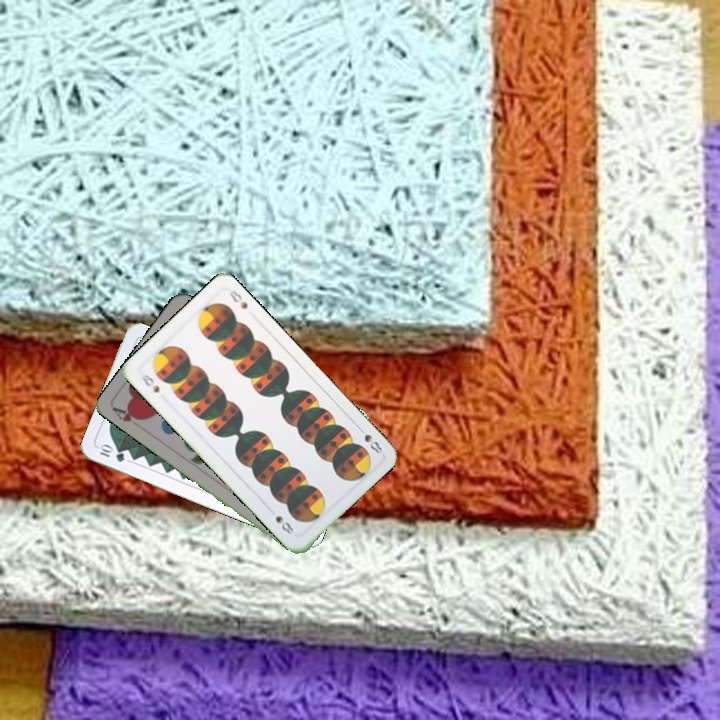G10: (94, 440, 128, 465)
HA: (109, 403, 145, 432)
S8: (353, 422, 385, 456), (137, 370, 162, 396)
